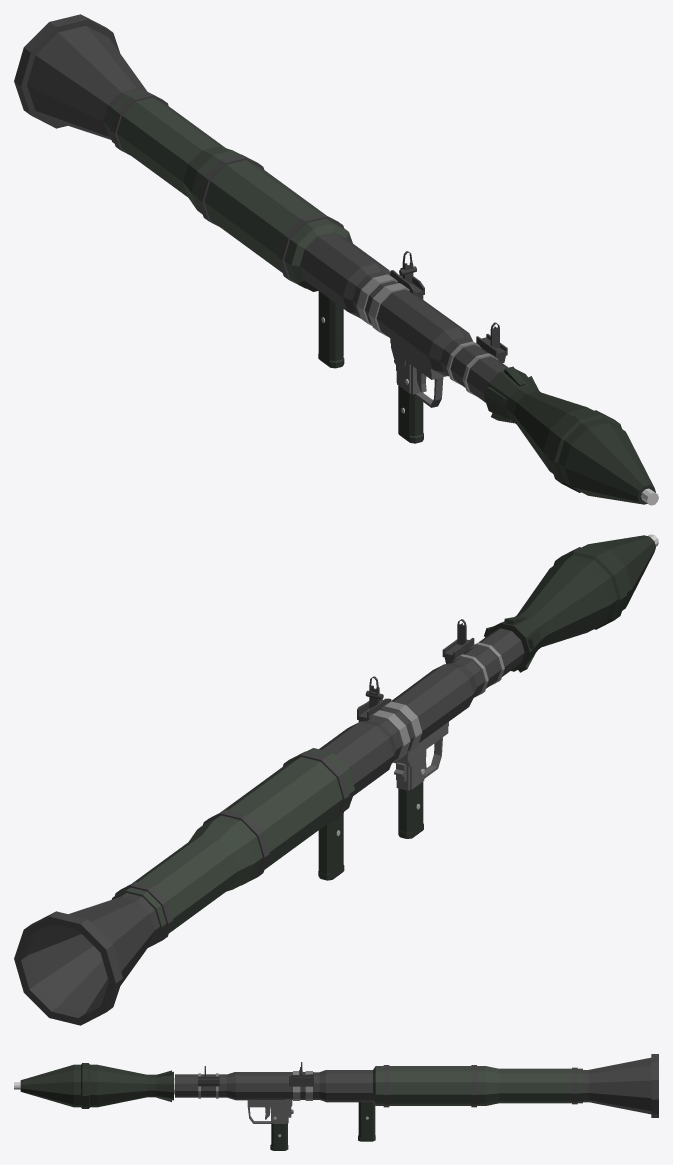
The model's file is AsimovRocketLauncher.fbx.
The picture shows the model from 3 angles, top to bottom: view 1: azimuth 30°, elevation 25°; view 2: azimuth 150°, elevation 25°; view 3: azimuth 270°, elevation 25°; orthographic projection. The views are drawn at different scales.
Visible parts, largest first — view 1: AsimovRPG; view 2: AsimovRPG; view 3: AsimovRPG.
Boxes of the visible parts, <box> form: AsimovRPG: <box>14,14,658,505</box>; AsimovRPG: <box>14,534,658,1025</box>; AsimovRPG: <box>14,1054,658,1150</box>.
Size of the model in its own units: 65.12 by 102 by 651.
